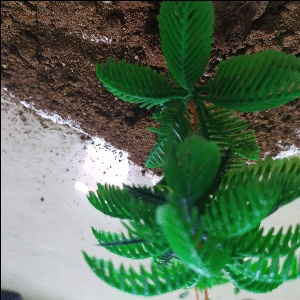plant: (84, 3, 300, 298)
